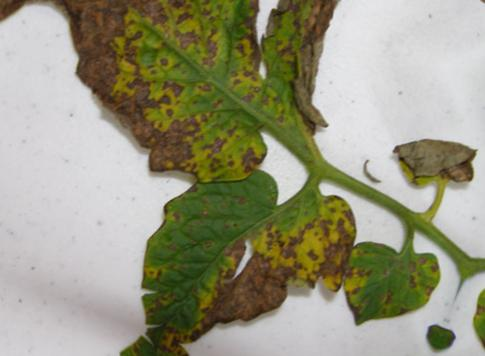Tomato Septoria leaf spot: (7, 0, 324, 208), (109, 125, 387, 356), (223, 0, 378, 145), (318, 217, 449, 354), (341, 294, 448, 356), (442, 83, 485, 219)
